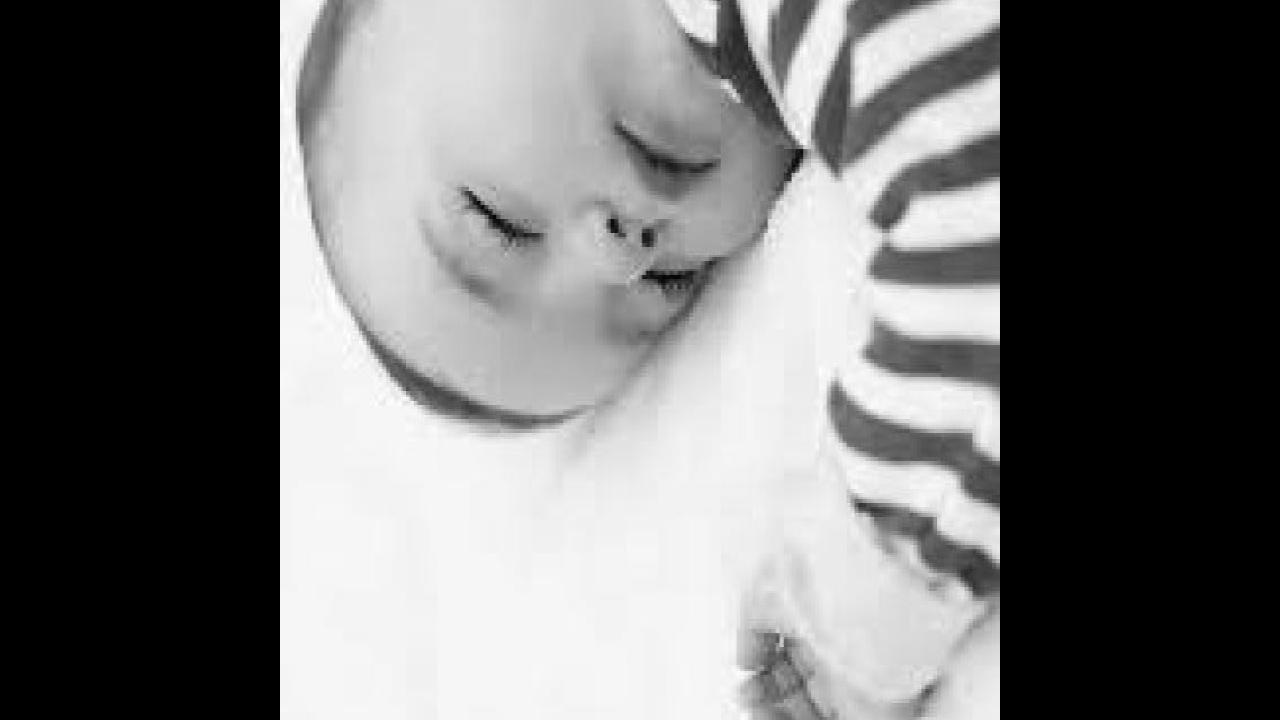hand: (728, 555, 908, 720)
